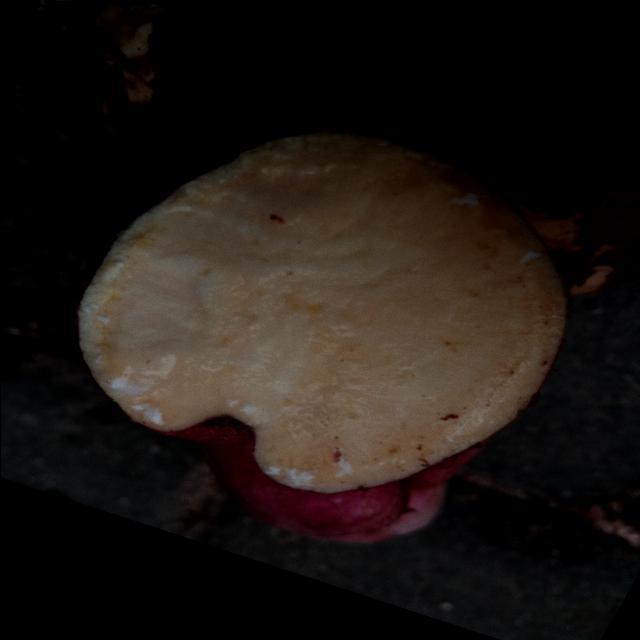Healthy Sweet Potato: (78, 131, 567, 492)
